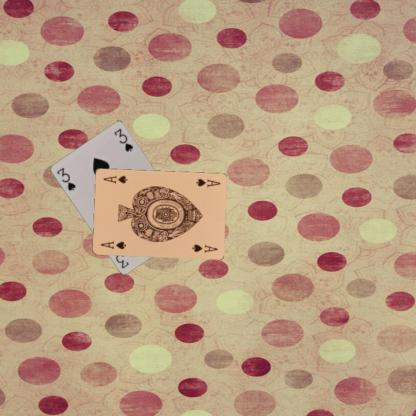3s: (54, 164, 78, 192)
As: (98, 238, 127, 250), (193, 176, 221, 188)
